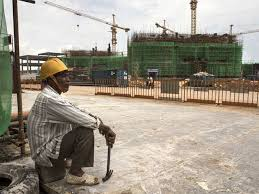safe person: (28, 56, 117, 187)
